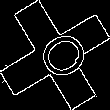O_SW: (22, 24, 88, 86)
